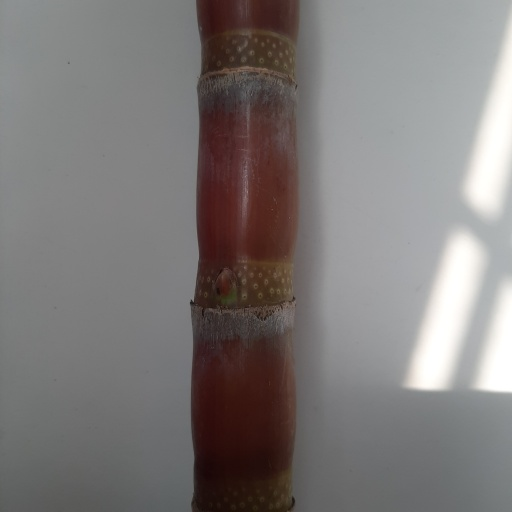Bud: (209, 265, 242, 306)
